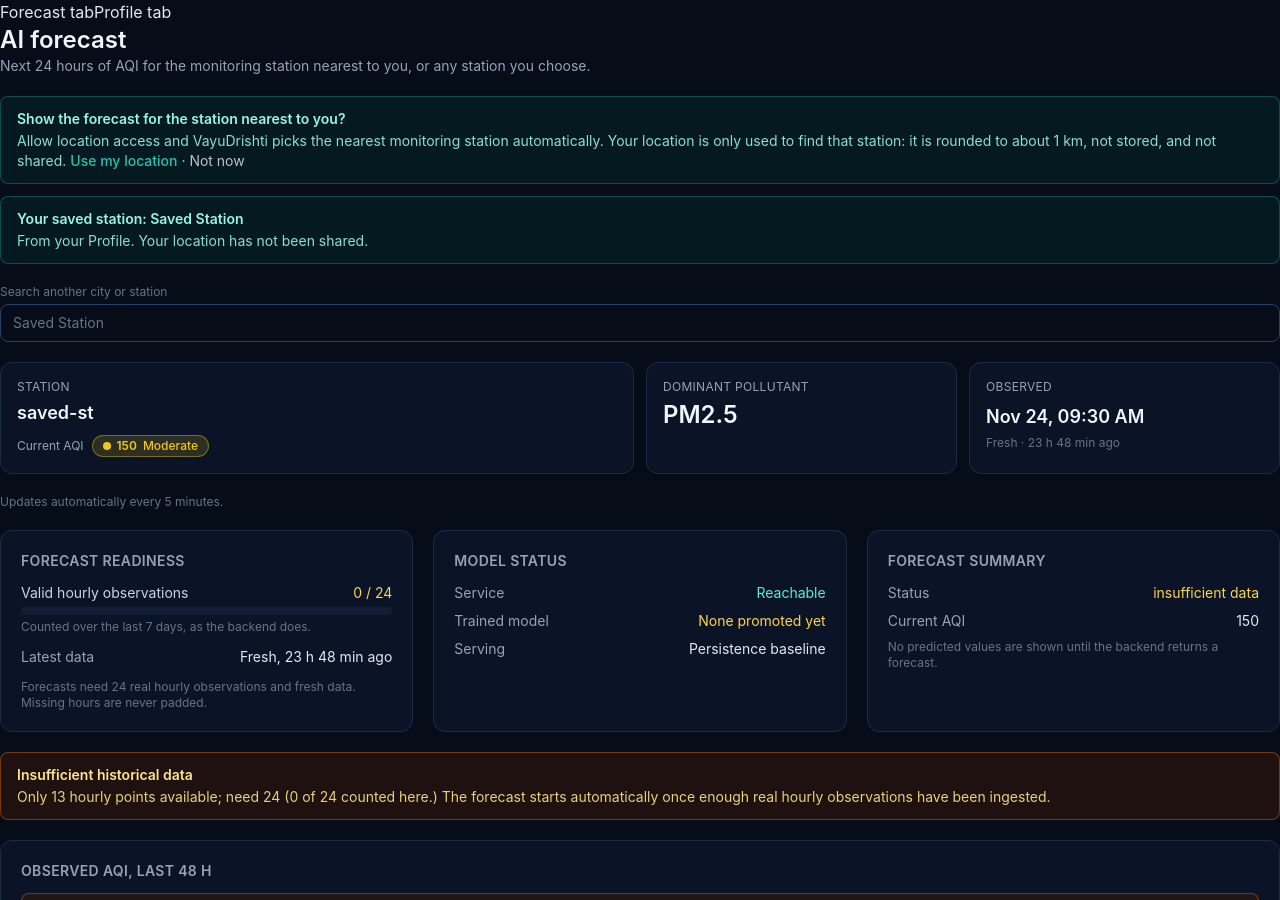
Test: location permission across navigation › 7. reload after a temporary grant expired: the request UI is back and nothing is requested
The width and height of the screenshot is (1280, 900).
Later steps or results of the test are not shown.
Click the button "Use my location" at (124, 161), box [70, 151, 178, 171]
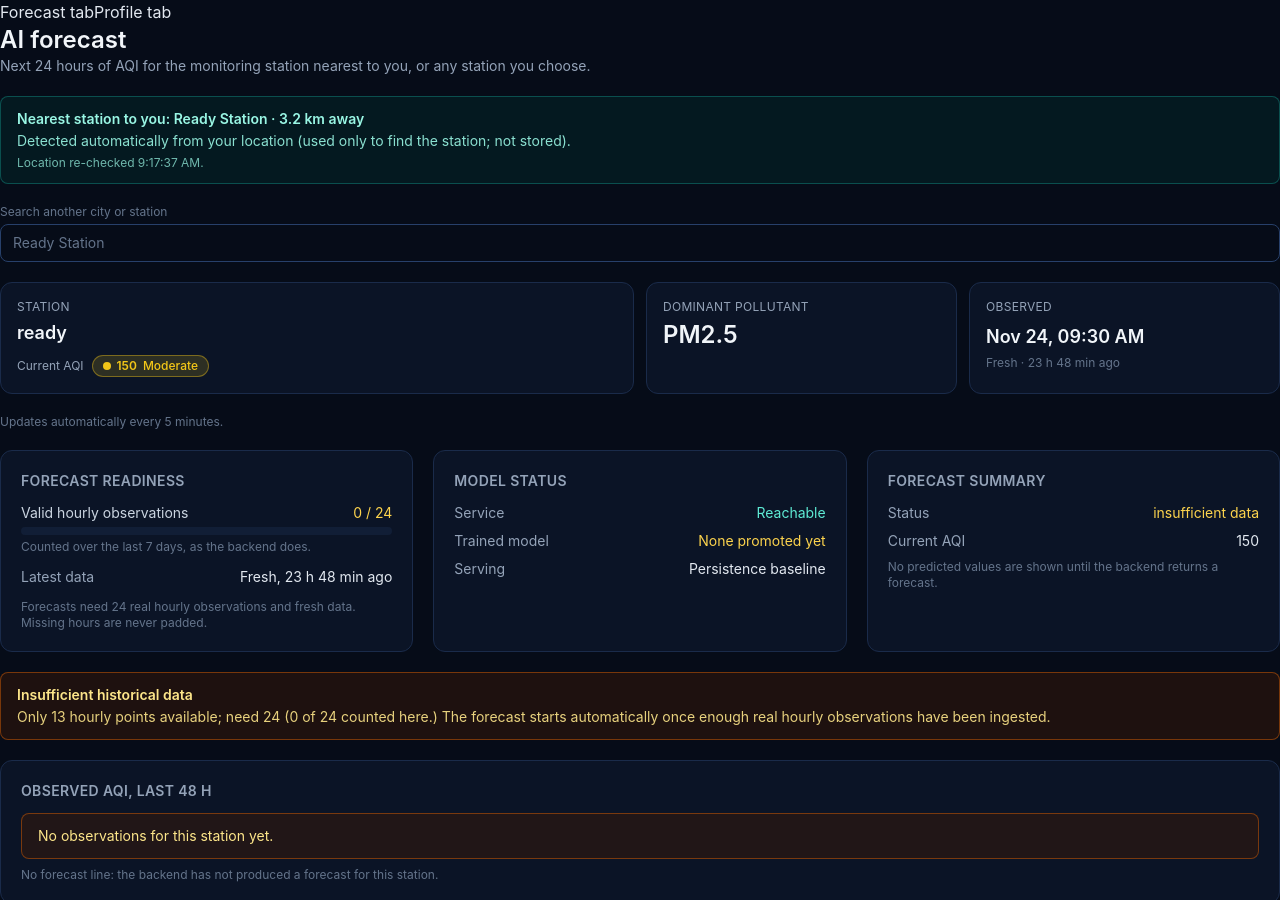
Now the text "Nearest station to you: Ready Station · 3.2 km away" is shown, box [17, 110, 364, 127]
